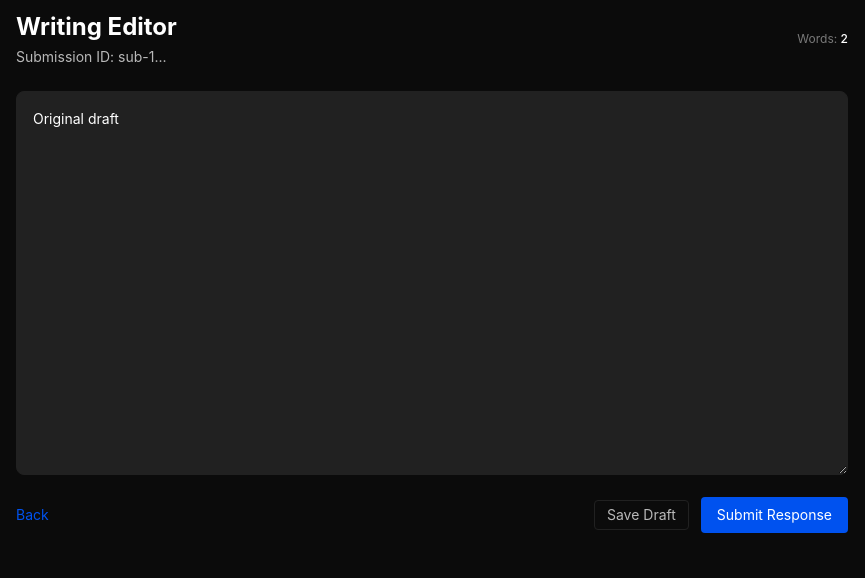
WritingEditor — submit-after-save-failure guard › blocks submit and shows a visible error when the final save fails
Click the button "Submit Response" at [774, 515], box [701, 497, 848, 533]
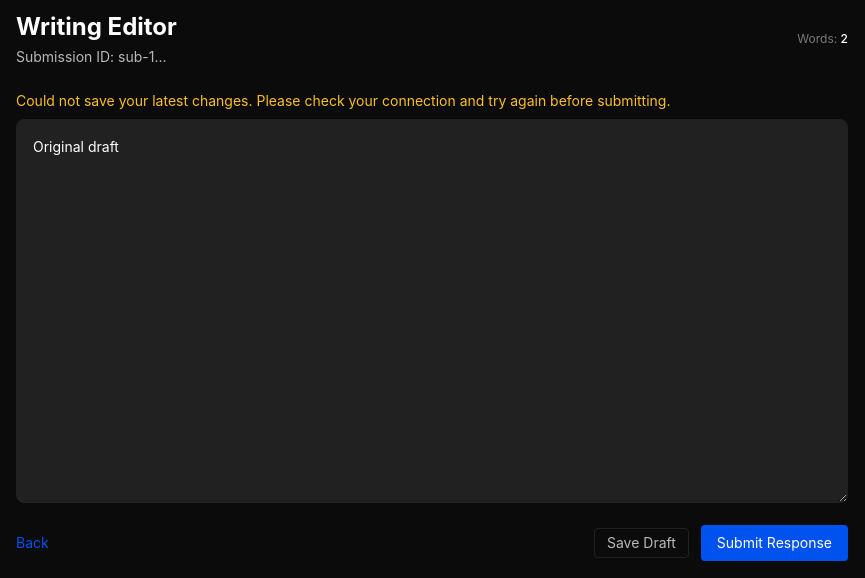
expect the text "Could not save your latest changes. Please check your connection and try again before submitting." is shown: met, box [16, 92, 670, 109]
